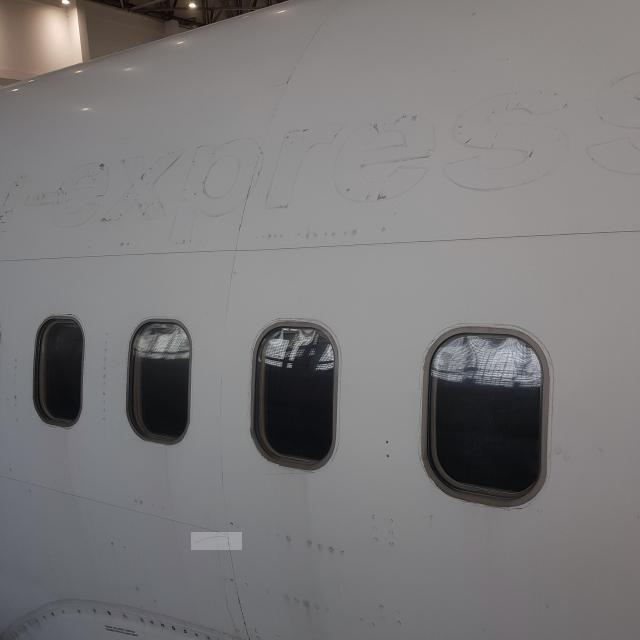crack: (192, 533, 243, 552)
